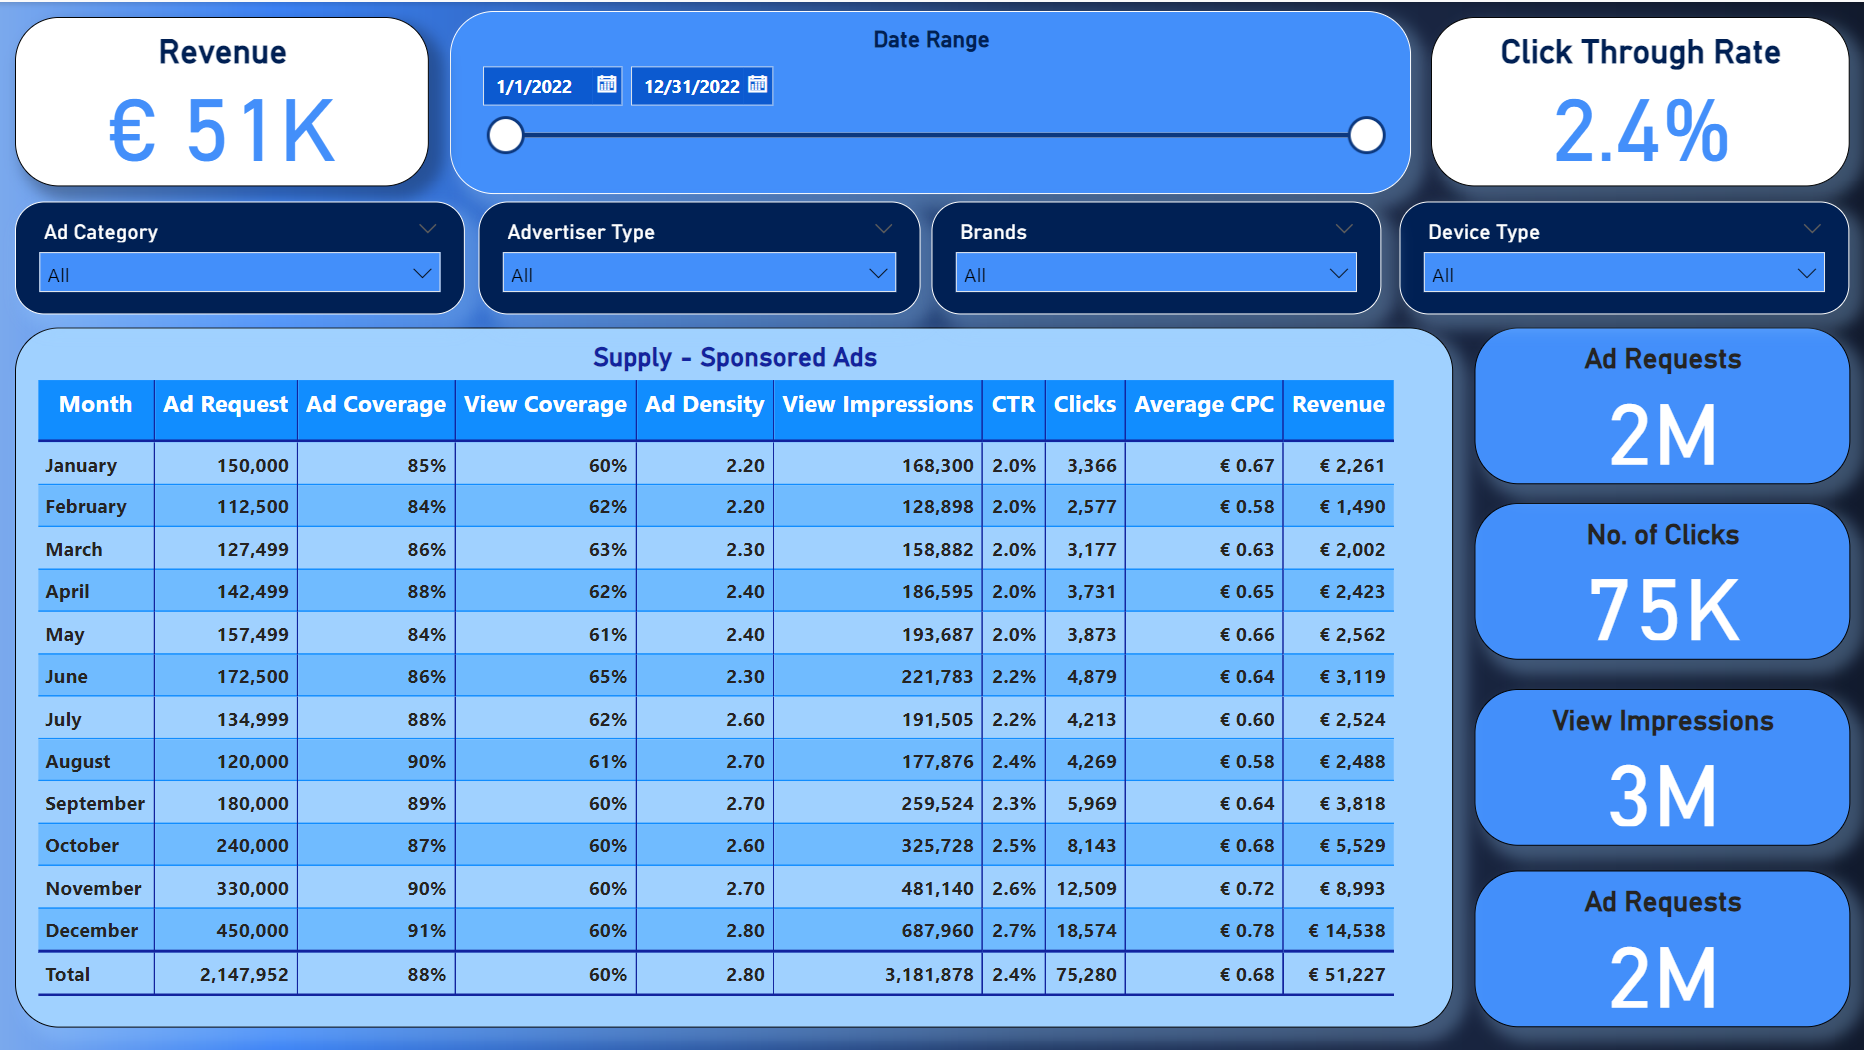

The dashboard page shown, as its layout file describes it:
{"tool":"powerbi","page":{"name":"Summary","canvas":[1280,720],"ordinal":0},"visuals":[{"type":"slicer","title":"Date Range","fields":{"Values":["impression_data.datetime"]},"box":[12,17.4,628.3,131.5],"z":0},{"type":"slicer","fields":{"Values":["advertiser_data.advertiser_type"]},"box":[1022.8,406.5,245.7,90.2],"z":1000},{"type":"card","title":"Revenue","fields":{"Values":["impression_data.revenue"]},"box":[1022.8,159.8,245.7,113],"z":2000},{"type":"card","title":"Clicks","fields":{"Values":["impression_data.clicks"]},"box":[1085.9,17.4,182.6,131.5],"z":3000},{"type":"card","title":"Click Through Rate","fields":{"Values":["impression_data.CTR"]},"box":[1022.8,284.8,245.7,108.7],"z":4000},{"type":"card","title":"View Impressions","fields":{"Values":["impression_data.viewable_impressions"]},"box":[650,17.4,212,130.4],"z":5000},{"type":"slicer","fields":{"Values":["impression_data.item_category"]},"box":[1022.8,607.6,245.7,94.6],"z":6000},{"type":"card","title":"Customer Visits","fields":{"Values":["Count(impression_data.user_id)"]},"box":[871.7,17.4,203.3,131.5],"z":7000},{"type":"tableEx","title":"Supply - Sponsored Products","fields":{"Values":["impression_data.datetime.Variation.Date Hierarchy.Month","impression_data.ad_request","impression_data.ad_coverage","impression_data.viewable_coverage","impression_data.ad_density","impression_data.viewable_impressions","impression_data.CTR","impression_data.clicks","Avg(ad_data.cost_per_click)","impression_data.revenue"]},"box":[12,159.8,1003.3,542.4],"z":8000},{"type":"slicer","fields":{"Values":["advertiser_data.advertiser_size"]},"box":[1022.8,507.6,245.7,89.1],"z":9000}]}

Visuals, with their boxes in screenshot pixels (x1, y1, x2, y2), scaled from the page's 1280x720 canvas onto the 1864x1050 screenshot:
"Date Range" slicer: box=[17, 25, 932, 217]
slicer - advertiser_data.advertiser_type: box=[1489, 593, 1847, 724]
"Revenue" card: box=[1489, 233, 1847, 398]
"Clicks" card: box=[1581, 25, 1847, 217]
"Click Through Rate" card: box=[1489, 415, 1847, 574]
"View Impressions" card: box=[947, 25, 1255, 216]
slicer - impression_data.item_category: box=[1489, 886, 1847, 1024]
"Customer Visits" card: box=[1269, 25, 1565, 217]
"Supply - Sponsored Products" tableEx: box=[17, 233, 1479, 1024]
slicer - advertiser_data.advertiser_size: box=[1489, 740, 1847, 870]
